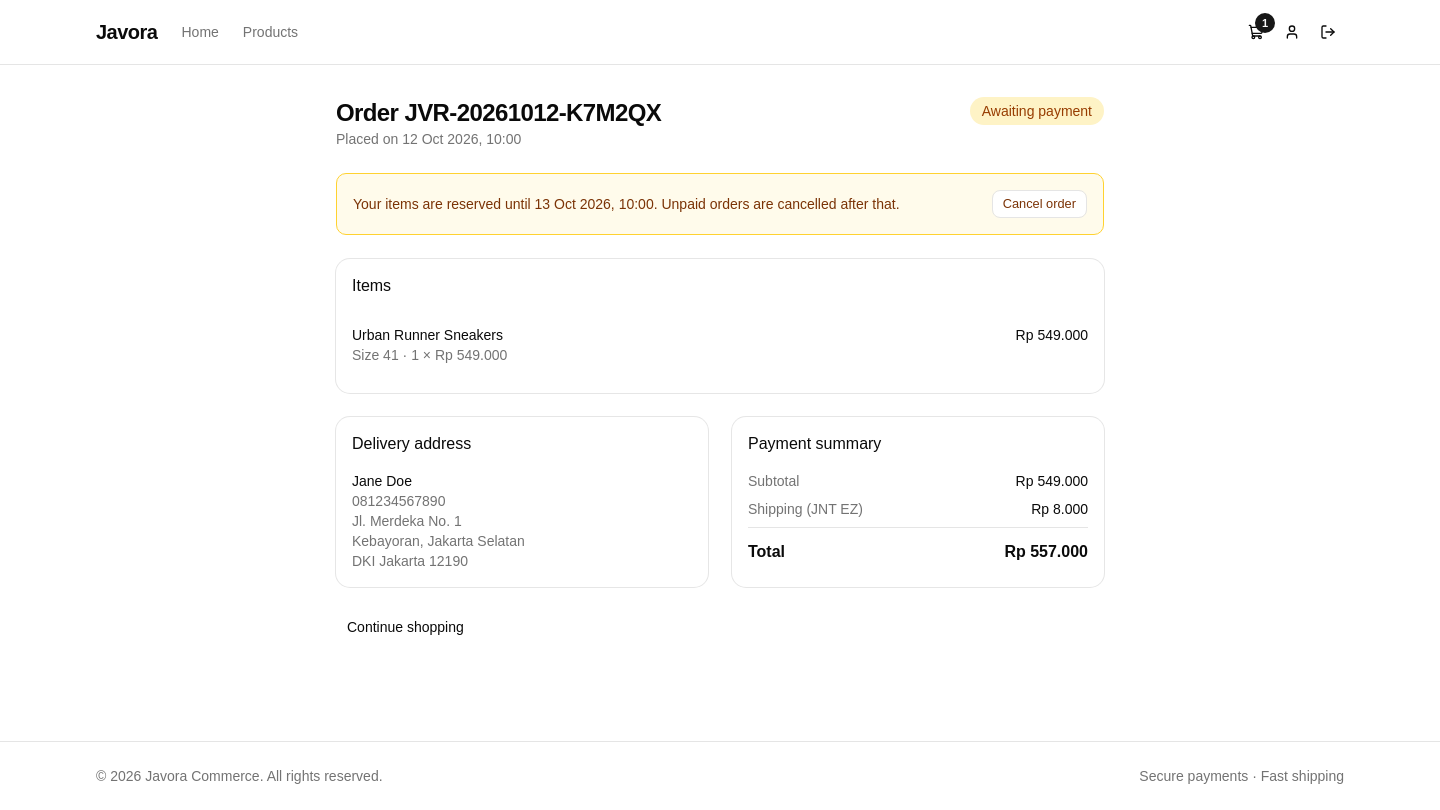
Test: order detail › shows the order and cancels it after confirmation
Expected: the text "Awaiting payment" is shown, [970,97,1104,125]
Expected: the text "Urban Runner Sneakers" is shown, [352,325,507,345]
Step 1. Click the button "Cancel order" → (1039, 204), box [992,190,1087,218]
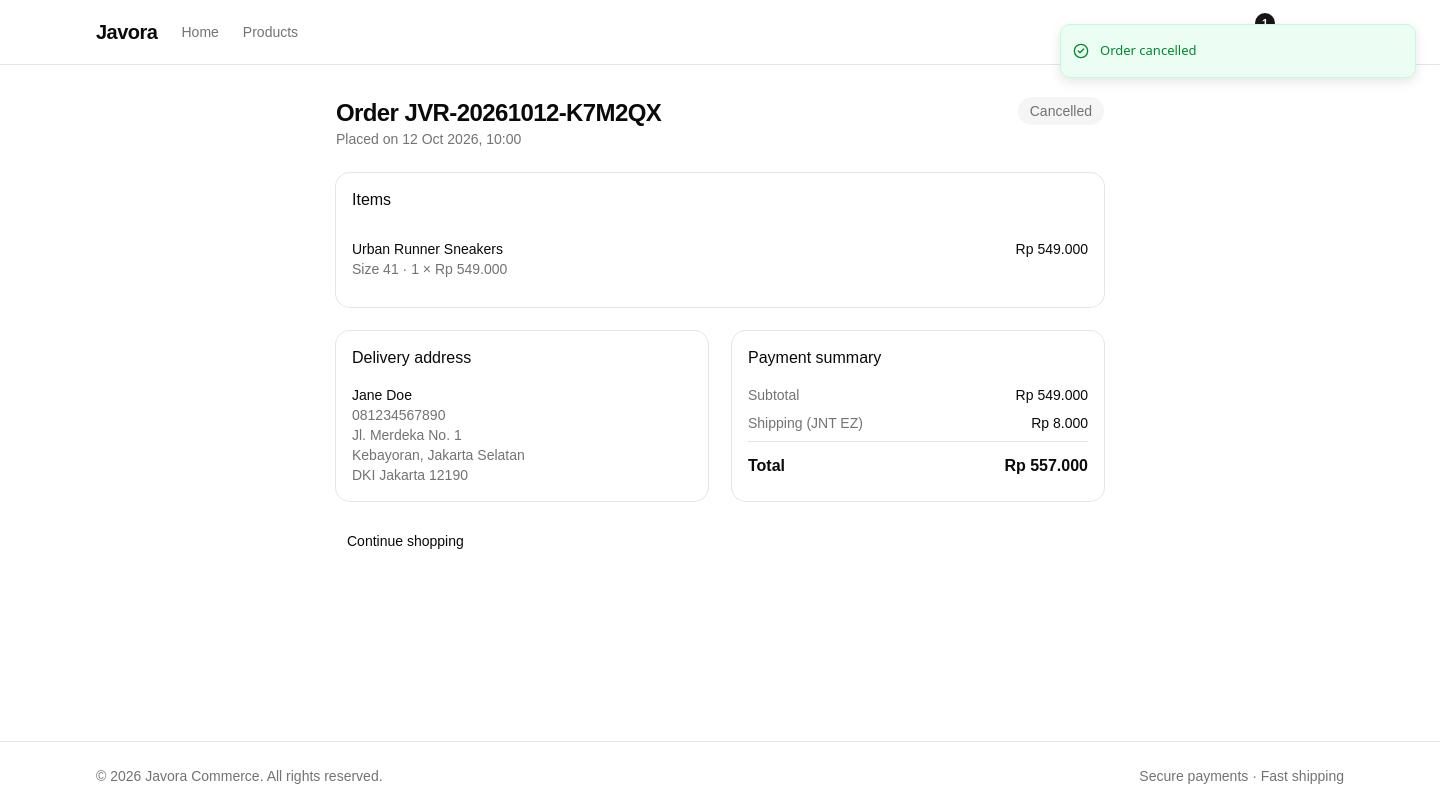
Now the text "Cancelled" is shown, box [1018,97,1104,125]
Now the button "Cancel order" is gone
